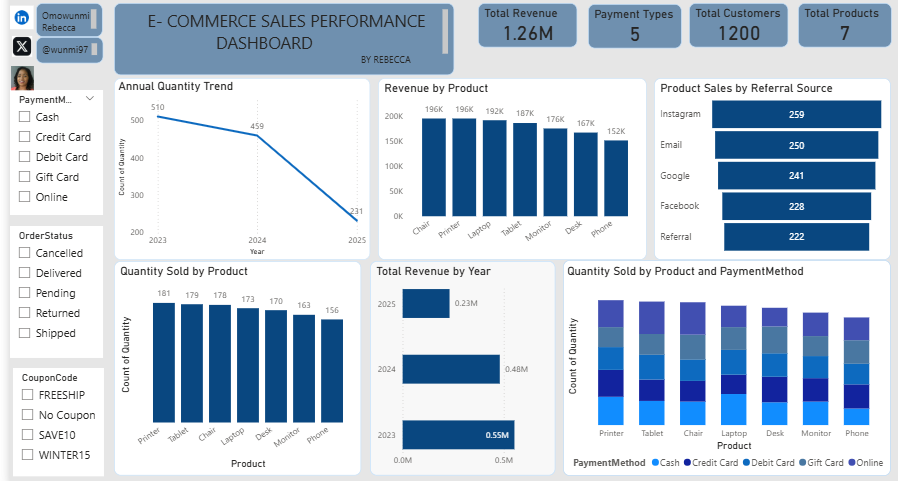

Layout of this report page (visuals, bound fields, positions):
{"tool":"powerbi","page":{"name":"Page 2","canvas":[1280,720],"ordinal":1},"visuals":[{"type":"lineChart","title":"Annual Quantity Trend","fields":{"Category":["Sheet1.Date.Variation.Date Hierarchy.Year"],"Y":["CountNonNull(Sheet1.Quantity)"]},"box":[149.8,131,368.6,262.1],"z":0},{"type":"funnel","title":"Product Sales by Referral Source","fields":{"Category":["Sheet1.ReferralSource"],"Y":["CountNonNull(Sheet1.Product)"]},"box":[927.4,131,341.3,262.1],"z":1000},{"type":"clusteredColumnChart","title":" Quantity Sold  by Product","fields":{"Category":["Sheet1.Product"],"Y":["CountNonNull(Sheet1.Quantity)"]},"box":[150,394.3,355.7,308.6],"z":2000},{"type":"clusteredBarChart","title":"Total Revenue by Year","fields":{"Category":["Sheet1.Date.Variation.Date Hierarchy.Year"],"Y":["Sum(Sheet1.TotalPrice)"]},"box":[518.6,394.3,267.1,308.6],"z":3000},{"type":"slicer","fields":{"Values":["Sheet1.CouponCode"]},"box":[4.3,548.6,131.4,155.7],"z":4000},{"type":"slicer","fields":{"Values":["Sheet1.PaymentMethod"]},"box":[0,148.3,133.9,180],"z":5000},{"type":"slicer","fields":{"Values":["Sheet1.OrderStatus"]},"box":[0,344.2,133.9,190.1],"z":6000},{"type":"columnChart","title":"Revenue by Product","fields":{"Category":["Sheet1.Product"],"Y":["Sum(Sheet1.TotalPrice)"]},"box":[529.9,131,387.4,262.1],"z":7000},{"type":"card","title":"   Total Products","fields":{"Values":["Count(Sheet1.Product)"]},"box":[1134.1,23.4,134.6,64.4],"z":8000},{"type":"card","title":"Payment Types","fields":{"Values":["Count(Sheet1.PaymentMethod)"]},"box":[832.7,24.9,134.6,64.4],"z":9000},{"type":"card","title":"Total Customers","fields":{"Values":["Sheet1.count customer"]},"box":[977.6,23.4,143.4,64.4],"z":10000},{"type":"card","title":"Total Revenue","fields":{"Values":["Sum(Sheet1.TotalPrice)"]},"box":[674.6,23.4,143.4,64.4],"z":11000},{"type":"textbox","box":[149.8,23,489.6,103.7],"z":12000},{"type":"columnChart","title":" Quantity Sold by Product and PaymentMethod","fields":{"Category":["Sheet1.Product"],"Series":["Sheet1.PaymentMethod"],"Y":["CountNonNull(Sheet1.Quantity)"]},"box":[796.3,393.1,472.3,311],"z":13000},{"type":"image","box":[1.5,114.1,33.7,35.1],"z":14000},{"type":"image","box":[0,16.1,33.7,55.6],"z":15000},{"type":"image","box":[2.9,60,29.3,49.8],"z":16000},{"type":"textbox","box":[38,71.7,96.6,38],"z":17000},{"type":"textbox","box":[37.4,23,96.5,49],"z":18000}]}

Visuals, with their boxes on the page's 1280x720 design canvas (x1, y1, x2, y2). These are canvas units, not pixel positions in the 898x481 screenshot, which may show the page scaled, cropped or inside an application window:
"Annual Quantity Trend" lineChart: 150/131/518/393
"Product Sales by Referral Source" funnel: 927/131/1269/393
" Quantity Sold  by Product" clusteredColumnChart: 150/394/506/703
"Total Revenue by Year" clusteredBarChart: 519/394/786/703
slicer - Sheet1.CouponCode: 4/549/136/704
slicer - Sheet1.PaymentMethod: 0/148/134/328
slicer - Sheet1.OrderStatus: 0/344/134/534
"Revenue by Product" columnChart: 530/131/917/393
"   Total Products" card: 1134/23/1269/88
"Payment Types" card: 833/25/967/89
"Total Customers" card: 978/23/1121/88
"Total Revenue" card: 675/23/818/88
textbox: 150/23/639/127
" Quantity Sold by Product and PaymentMethod" columnChart: 796/393/1269/704
image: 2/114/35/149
image: 0/16/34/72
image: 3/60/32/110
textbox: 38/72/135/110
textbox: 37/23/134/72
